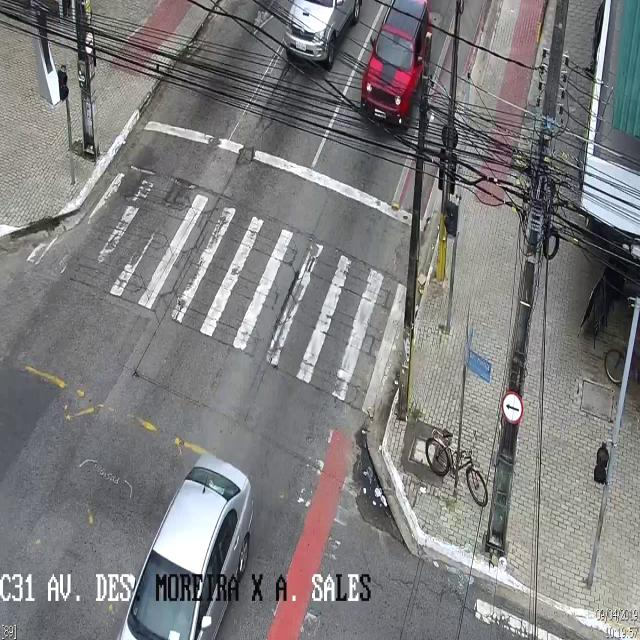Car: (118, 451, 252, 639), (362, 3, 432, 134), (283, 2, 359, 68)
